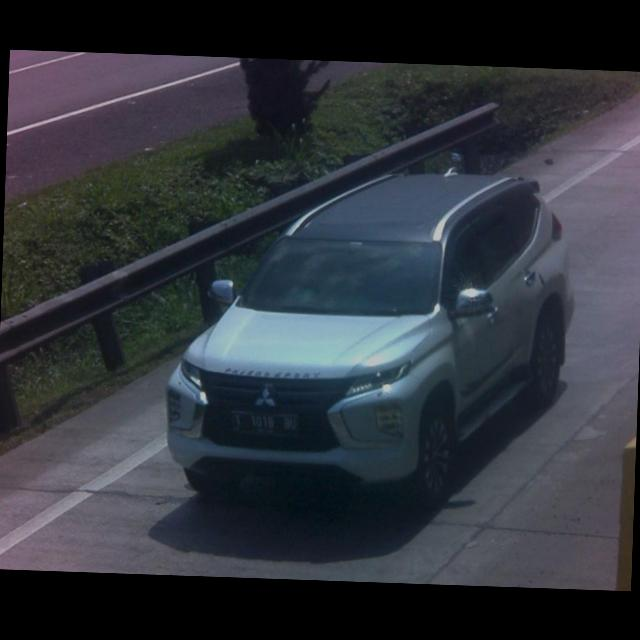plate: (230, 408, 303, 437)
